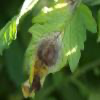Tomato leaf late blight: (21, 4, 98, 99)
